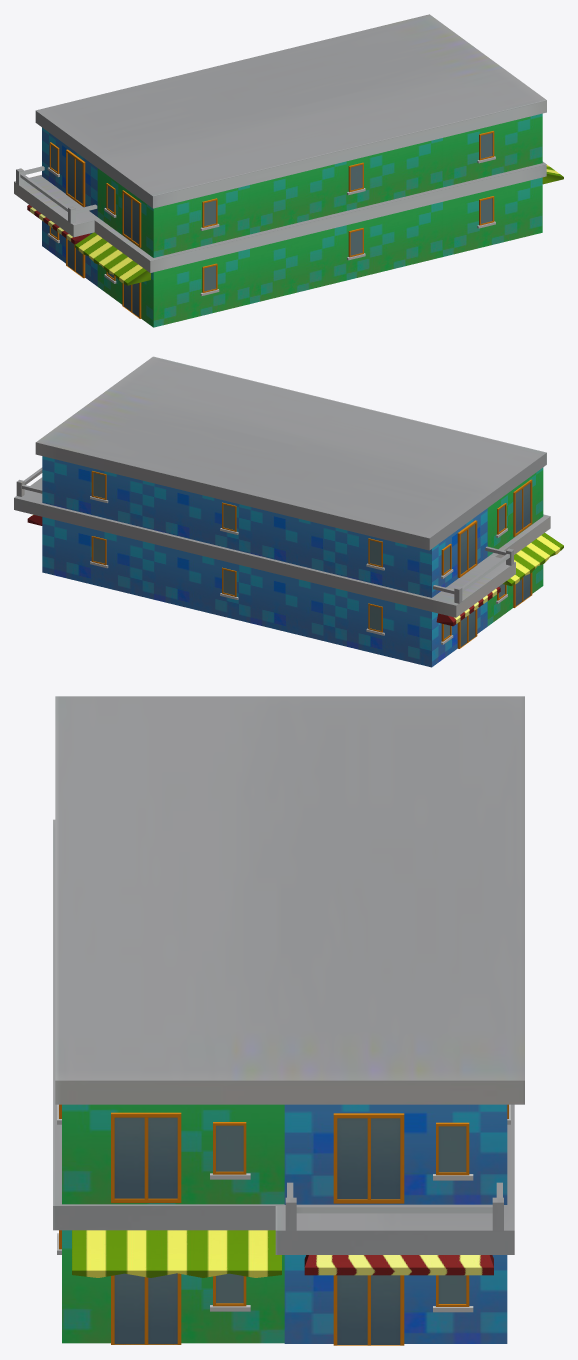
File: nha_xanh_dai.fbx
3 views of the same model, one above another, from view 1: azimuth 30°, elevation 25°; view 2: azimuth 150°, elevation 25°; view 3: azimuth 270°, elevation 25° (orthographic). The views are drawn at different scales.
Visible parts, largest first — view 1: nha_xanh_dai; view 2: nha_xanh_dai; view 3: nha_xanh_dai.
Boxes of the visible parts, left/top/right/bottom form: nha_xanh_dai: left=14, top=14, right=563, bottom=327; nha_xanh_dai: left=14, top=356, right=563, bottom=667; nha_xanh_dai: left=53, top=696, right=524, bottom=1345.
Size of the model in its own units: 2470 by 708 by 1140.
